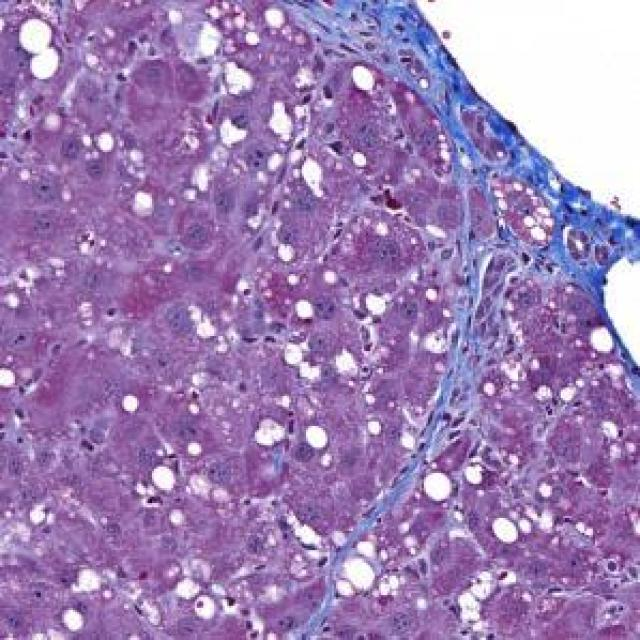fibrosis: (383, 34, 514, 283)
